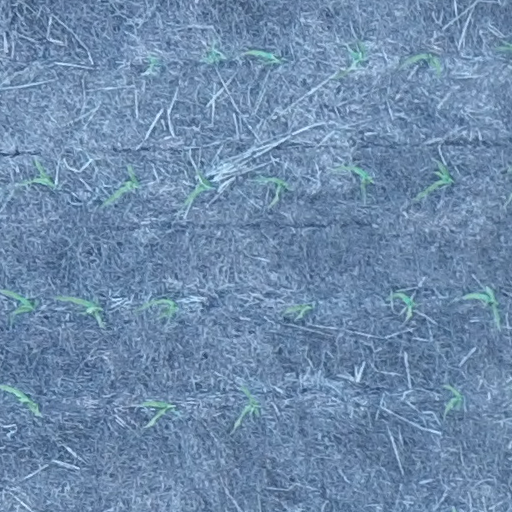planta: (55, 294, 105, 330), (101, 164, 140, 206), (464, 285, 501, 328), (417, 162, 454, 199), (331, 41, 366, 80), (2, 287, 38, 321), (336, 164, 373, 196), (254, 176, 291, 207), (233, 385, 260, 427), (183, 168, 212, 206), (132, 296, 178, 319), (20, 160, 54, 189), (141, 399, 176, 426), (405, 52, 440, 77), (388, 291, 417, 320), (442, 382, 463, 414), (244, 48, 283, 65), (283, 304, 314, 320)
